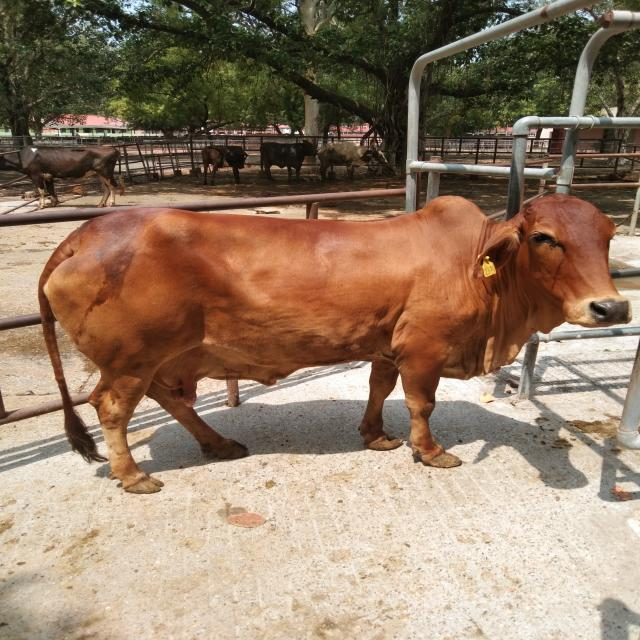1: (401, 195, 501, 215)
Hoof: (123, 476, 163, 494), (422, 451, 462, 468), (215, 440, 248, 460), (363, 435, 402, 451)
